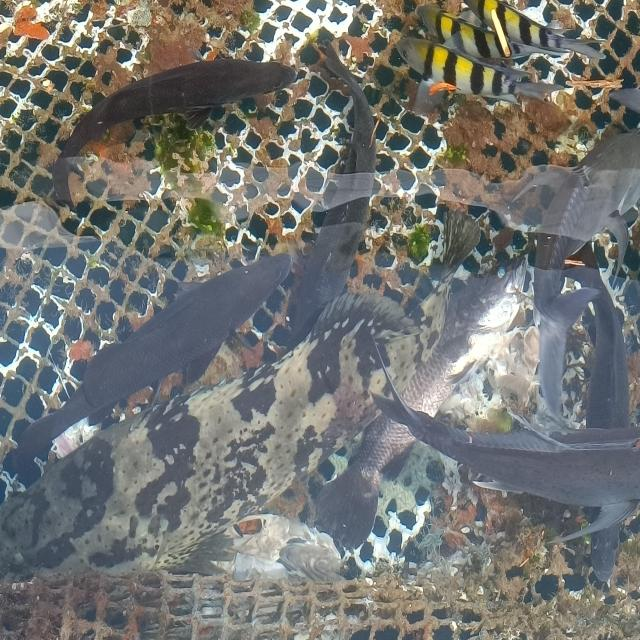ikan: (2, 250, 294, 497), (369, 351, 639, 583), (51, 50, 298, 212), (432, 125, 639, 276), (394, 34, 573, 112), (414, 0, 606, 65)
